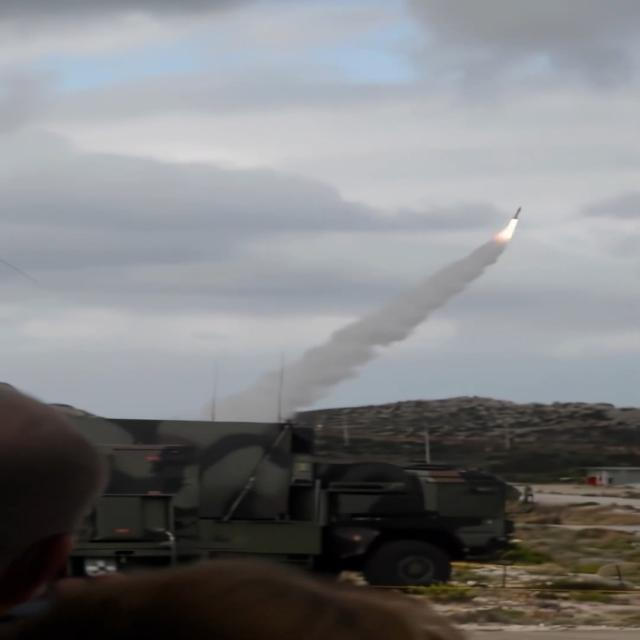Missile: (509, 205, 528, 224)
